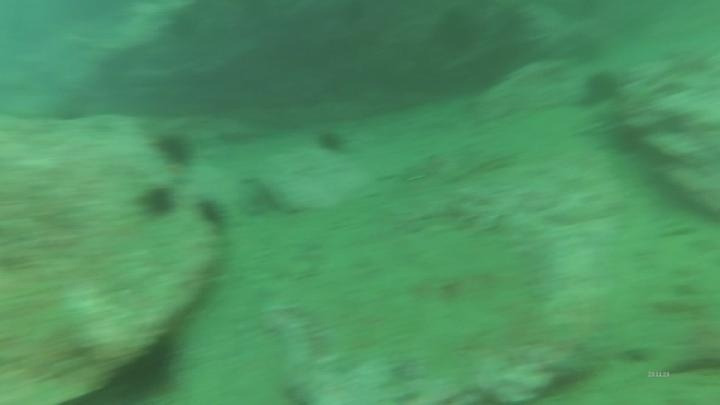echinus: (108, 335, 181, 402), (431, 7, 483, 57), (151, 129, 198, 170), (580, 67, 624, 108), (136, 183, 179, 221), (193, 194, 231, 234), (312, 126, 351, 158)
